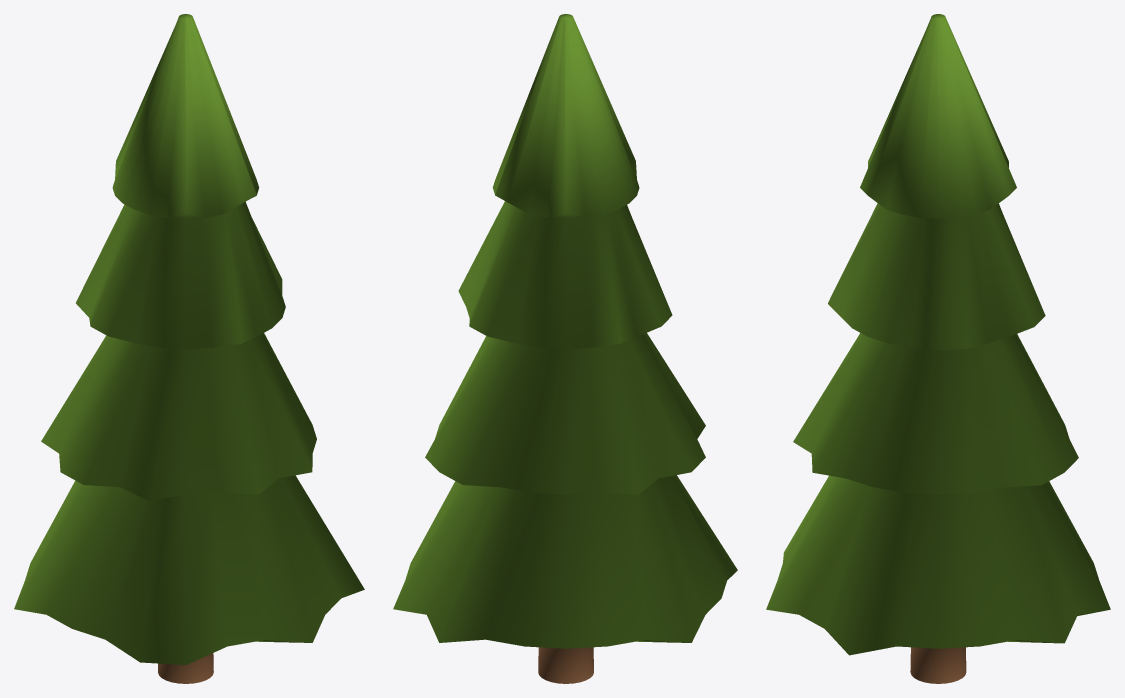
The model's file is pineTree2.fbx.
The picture shows the model from 3 angles, left to right: view 1: azimuth 30°, elevation 25°; view 2: azimuth 150°, elevation 25°; view 3: azimuth 270°, elevation 25°; orthographic projection.
Parts seen in each view (by area): view 1: Pine Tree 2; view 2: Pine Tree 2; view 3: Pine Tree 2.
Part boxes in pixels (box(x1,y1,x2,y2)): Pine Tree 2: box(14, 14, 364, 683); Pine Tree 2: box(393, 14, 737, 683); Pine Tree 2: box(766, 14, 1110, 683).
Size of the model in its own units: 148 by 154 by 322.
